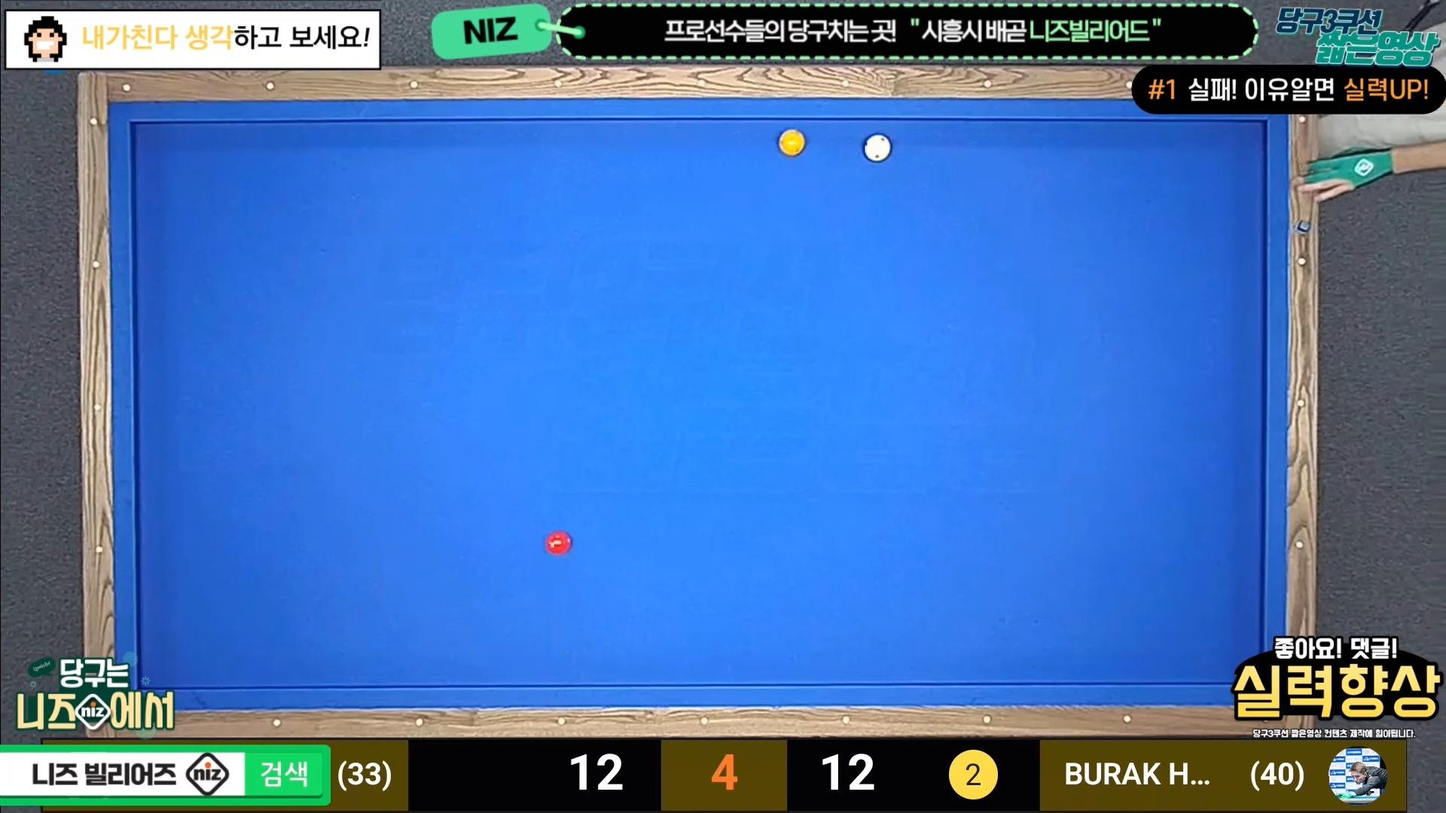Red: (544, 531, 577, 557)
White: (862, 133, 895, 163)
Yellow: (777, 129, 810, 159)
